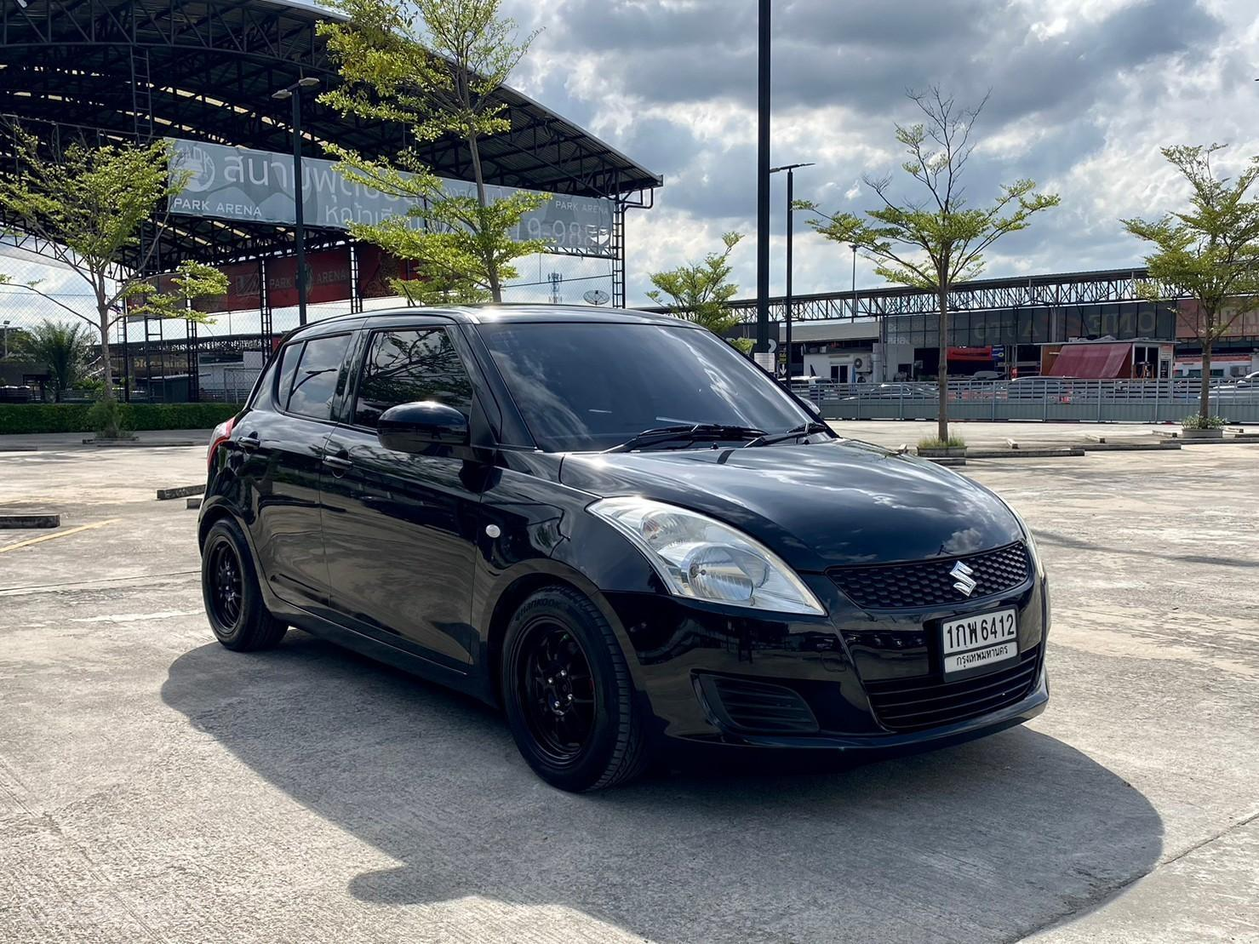license-plate: (937, 600, 1025, 677)
